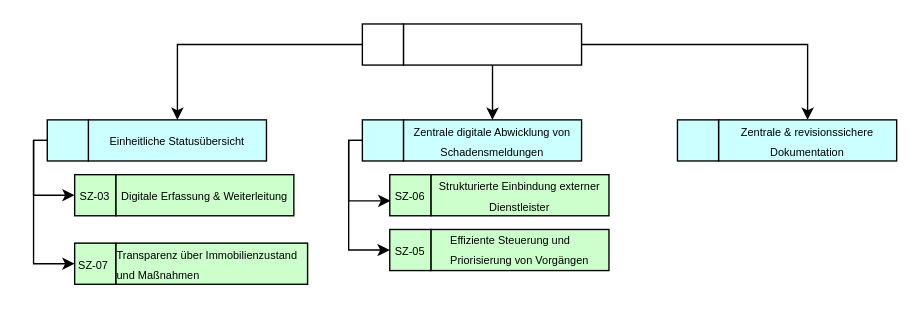
Image size: 921x314. Some labels were removed from this diagram. The shapes that lost their labels are listed below. From the top down, each one's centre as x and y in pixels, then its label:
At pixel 382 44: "ZG-0".
At pixel 492 44: "Effektives digitales Mängelmanagement".
At pixel 67 140: "SZ-02".
At pixel 382 140: "SZ-01".
At pixel 697 140: "SZ-04".
